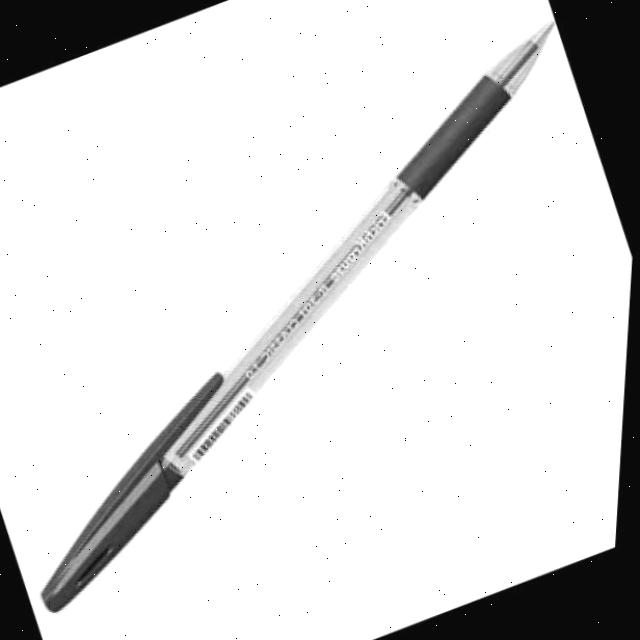pencil: (36, 9, 562, 614)
